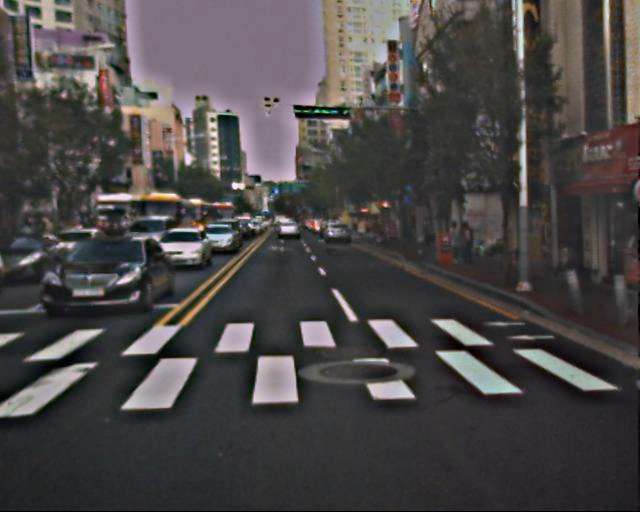person: (613, 256, 640, 403), (552, 244, 578, 281), (447, 221, 467, 269), (461, 222, 480, 268), (422, 220, 433, 248), (410, 217, 420, 242)
